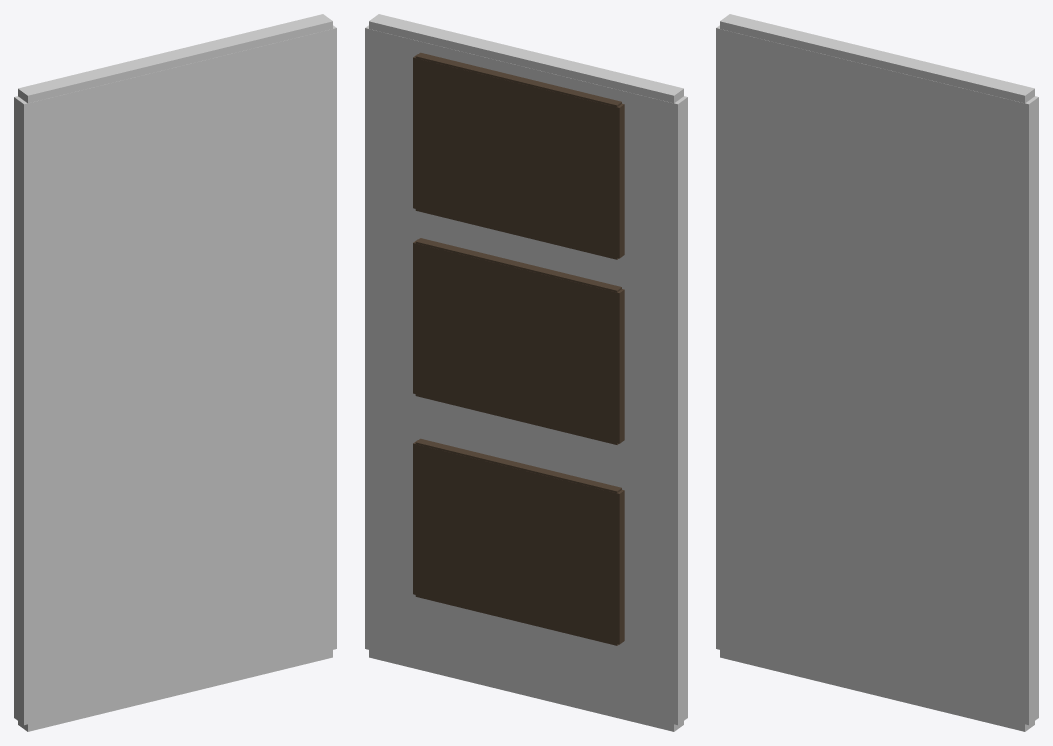
Rendered from door_leaf.glb.
3 views of the same model, side by side, from view 1: azimuth 30°, elevation 25°; view 2: azimuth 150°, elevation 25°; view 3: azimuth 330°, elevation 25° (orthographic).
Visible parts, largest first — view 1: DoorLeaf; view 2: DoorLeaf; view 3: DoorLeaf.
Boxes of the visible parts, box(x1,y1,x2,y2) form: DoorLeaf: box(14, 14, 336, 731); DoorLeaf: box(365, 14, 687, 731); DoorLeaf: box(716, 14, 1038, 731).
Size of the model in its own units: 1.06 by 2.06 by 0.09.
